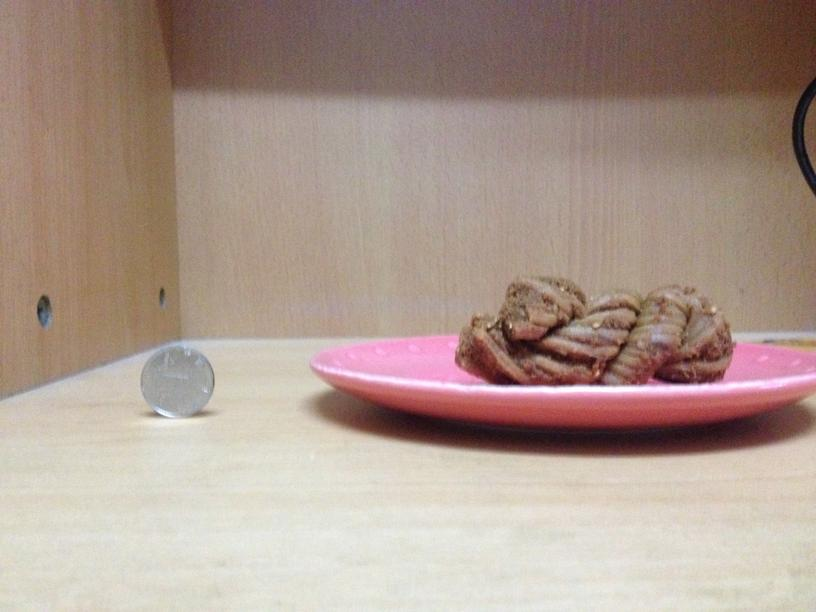coin: (140, 347, 215, 418)
fired_dough_twist: (453, 272, 731, 385)
